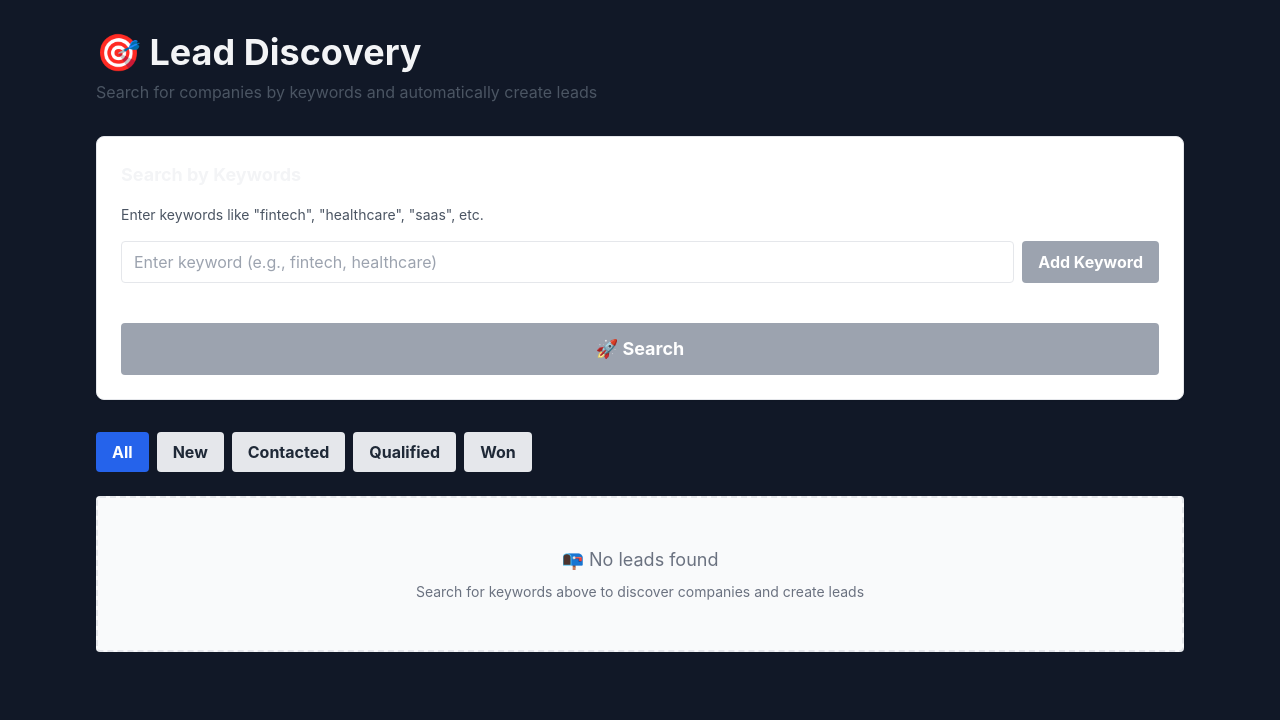
Test: LeadDiscovery › Search Functionality › should enable search button with keywords
The image size is (1280, 720).
Type "tech" into the field with placeholder "Enter keyword (e.g., fintech, healthcare)" at [568, 262], box [121,241,1014,283]
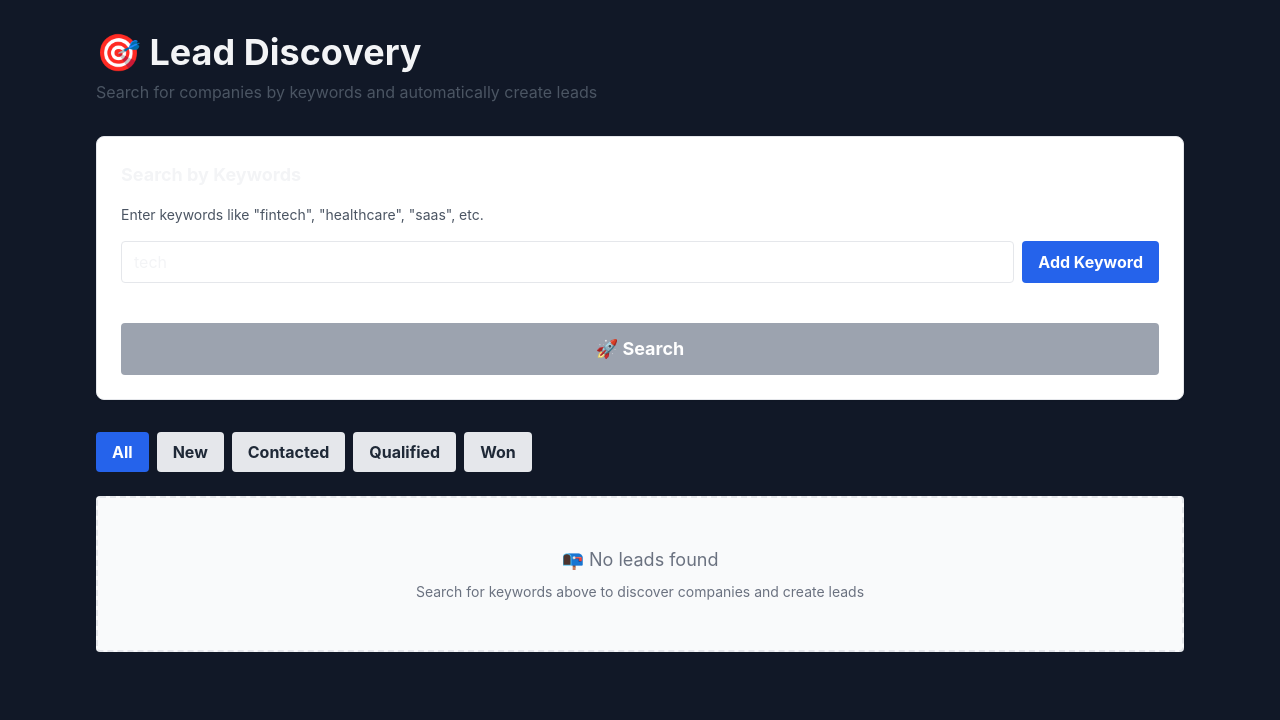
Click the button "Add Keyword" at [1091, 262], box [1022,241,1159,283]
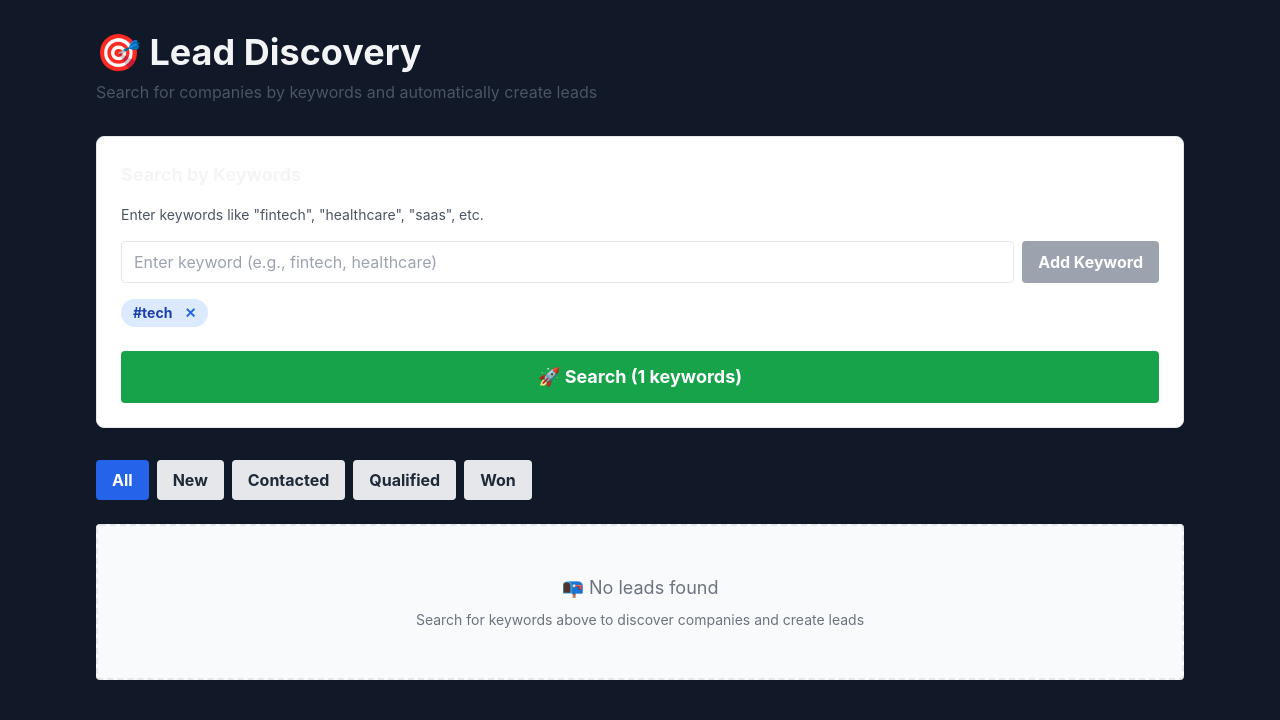
Check: the button "🚀 Search (1 keywords)" is enabled, box [121,351,1159,403]
